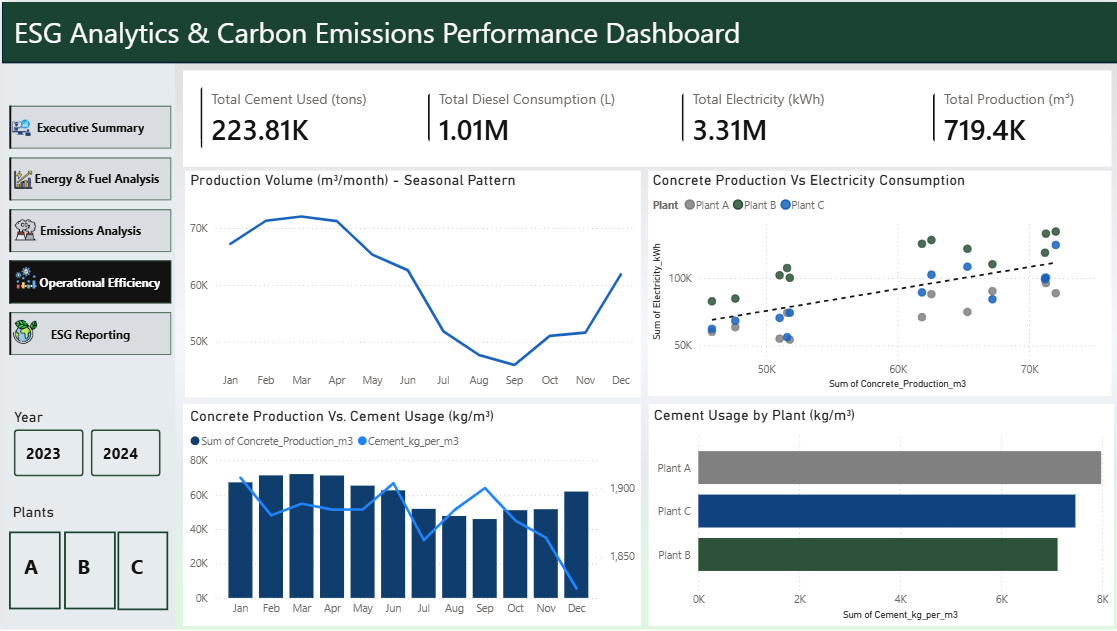

This screenshot's page, from the dashboard's own definition file:
{"tool":"powerbi","page":{"name":"..... Operational Efficiency","canvas":[1280,720],"ordinal":3},"visuals":[{"type":"image","box":[11,193.4,26.1,20.6],"z":0,"group":"g1"},{"type":"lineChart","title":"Production Volume (m³/month) - Seasonal Pattern","fields":{"Y":["Sum(production5.Concrete_Production_m3)"],"Category":["DateTable.Month Name"]},"box":[209.9,193.5,518.7,258],"z":0},{"type":"scatterChart","title":"Concrete Production Vs Electricity Consumption","fields":{"X":["Sum(production5.Concrete_Production_m3)"],"Y":["Sum(energy4.Electricity_kWh)"],"Series":["energy4.Plant"],"Category":["DateTable.Month Name"]},"box":[738.3,193.5,525.6,255.2],"z":1000},{"type":"image","box":[13.7,240.1,24.7,41.2],"z":1000,"group":"g1"},{"type":"image","box":[12.4,297.7,27.4,35.7],"z":2000,"group":"g1"},{"type":"lineStackedColumnComboChart","title":"Concrete Production Vs. Cement Usage (kg/m³)","fields":{"Category":["DateTable.Month Name"],"Y":["Sum(production5.Concrete_Production_m3)"],"Y2":["Sum(cement_usage2.Cement_kg_per_m3)"]},"box":[209.9,462.4,518.7,248.4],"z":2000},{"type":"cardVisual","title":"Total Diesel Consumption (L)","fields":{"Data":["Sum(energy4.Diesel_Liters)"]},"box":[470.7,87.8,267.6,90.6],"z":3000},{"type":"image","box":[12.4,359.5,27.4,37],"z":3000,"group":"g1"},{"type":"cardVisual","title":"Total Diesel Consumption (L)","fields":{"Data":["Sum(cement_usage2.Cement_Used_tons)"]},"box":[209.9,79.6,245.6,105.7],"z":4000},{"type":"image","box":[11,126.2,22,35.7],"z":4000,"group":"g1"},{"type":"cardVisual","fields":{"Data":["Sum(production5.Concrete_Production_m3)"]},"box":[1047,87.8,216.8,90.6],"z":5000},{"type":"clusteredBarChart","title":"Cement Usage by Plant (kg/m³)","fields":{"Category":["cement_usage2.Plant"],"Y":["Sum(cement_usage2.Cement_kg_per_m3)"]},"box":[739.6,461.1,529.7,249.7],"z":6000},{"type":"advancedSlicerVisual","title":"Plants","fields":{"Values":["plants1.Plant Letter"]},"box":[6.9,572.2,186.6,123.5],"z":7000},{"type":"advancedSlicerVisual","fields":{"Values":["DateTable.Year"]},"box":[8.2,463.8,178.4,83.7],"z":8000},{"type":"textbox","box":[8.2,6.9,860.4,65.9],"z":9000},{"type":"cardVisual","title":"Total Diesel Consumption (L)","fields":{"Data":["Sum(energy4.Electricity_kWh)"]},"box":[760.2,87.8,267.6,90.6],"z":10000},{"type":"pageNavigator","box":[8.2,118,185.2,286.8],"z":11000},{"type":"group","id":"g1","title":"Group 1","box":[11,126.2,28.8,270.3],"z":12000}]}

Visuals, with their boxes in screenshot pixels (x1, y1, x2, y2), scaled from the page's 1280x720 canvas onto the 1117x631 screenshot:
image: 10/169/32/188
"Production Volume (m³/month) - Seasonal Pattern" lineChart: 183/170/636/396
"Concrete Production Vs Electricity Consumption" scatterChart: 644/170/1103/393
image: 12/210/34/247
image: 11/261/35/292
"Concrete Production Vs. Cement Usage (kg/m³)" lineStackedColumnComboChart: 183/405/636/623
"Total Diesel Consumption (L)" cardVisual: 411/77/644/156
image: 11/315/35/347
"Total Diesel Consumption (L)" cardVisual: 183/70/397/162
image: 10/111/29/142
cardVisual - Sum(production5.Concrete_Production_m3): 914/77/1103/156
"Cement Usage by Plant (kg/m³)" clusteredBarChart: 645/404/1108/623
"Plants" advancedSlicerVisual: 6/501/169/610
advancedSlicerVisual - DateTable.Year: 7/406/163/480
textbox: 7/6/758/64
"Total Diesel Consumption (L)" cardVisual: 663/77/897/156
pageNavigator: 7/103/169/355
"Group 1" group: 10/111/35/347
